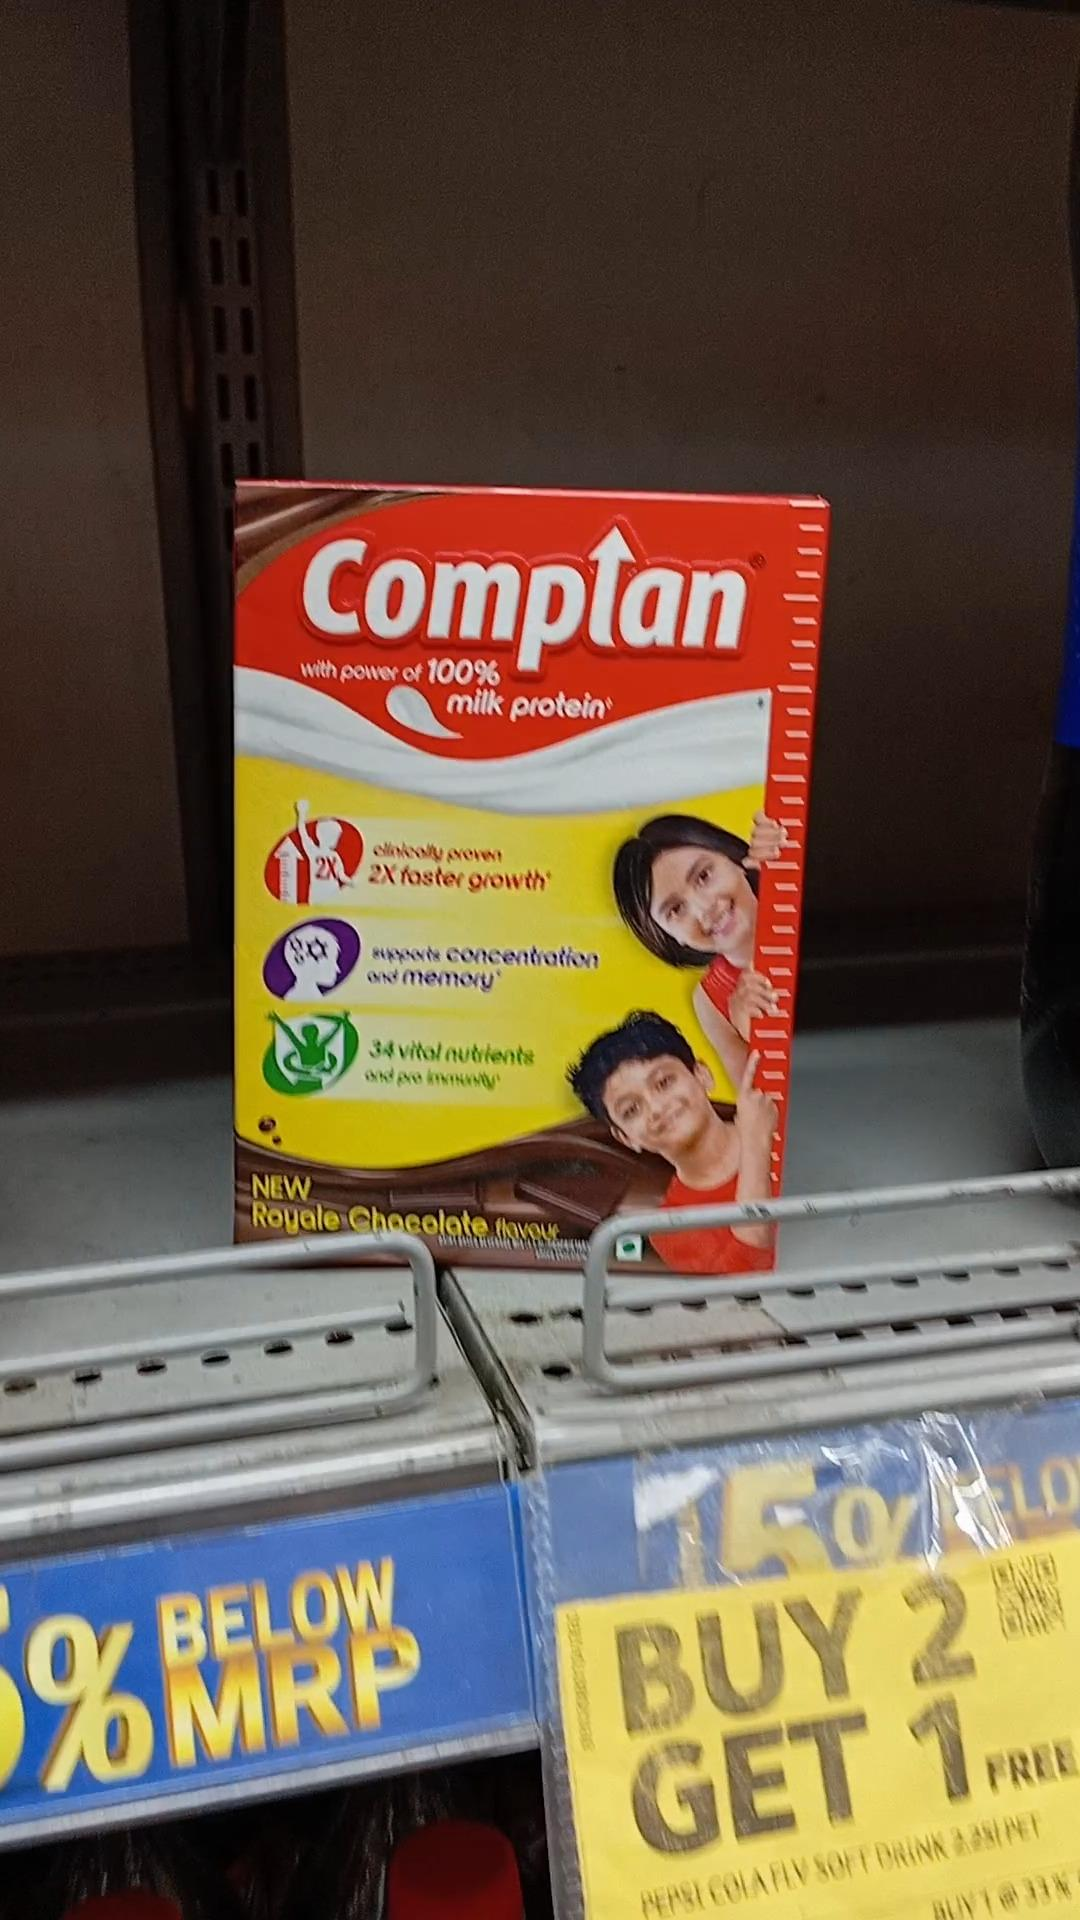COMPLAN_CHOCOLATE_200_GMS_PACK: (237, 485, 782, 1274)
